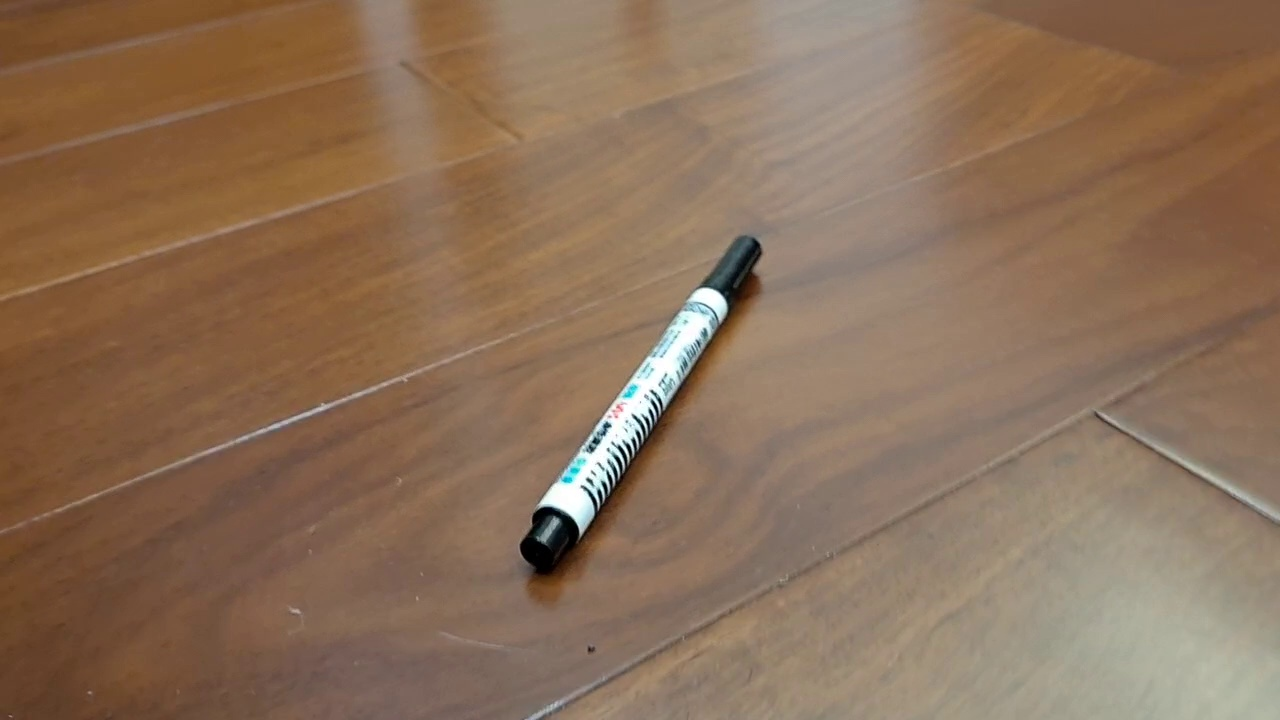pen: (519, 234, 763, 572)
